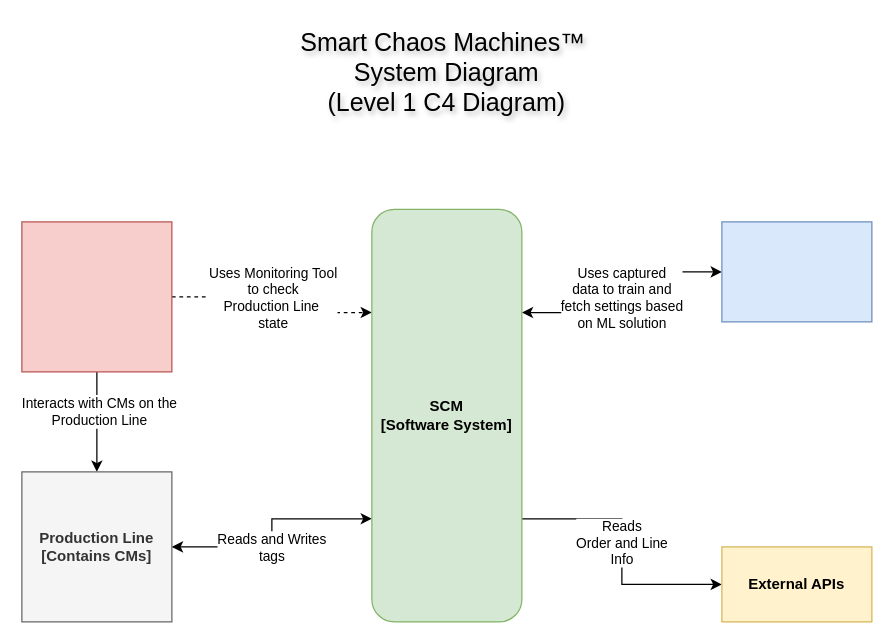
This 894x644 diagram has some shape labels left out. The box of each missing label's shape, as (x1, y1, x2, y2) in pixels:
SCM ML Solution [Software System]: (721, 221, 872, 322)
User [Operator] A factory shopfloor worker: (21, 221, 172, 372)
